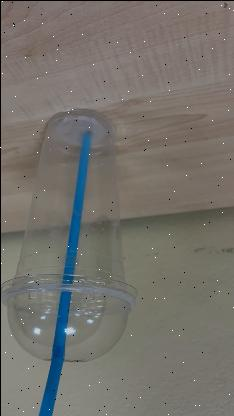Others: (1, 111, 136, 398)
